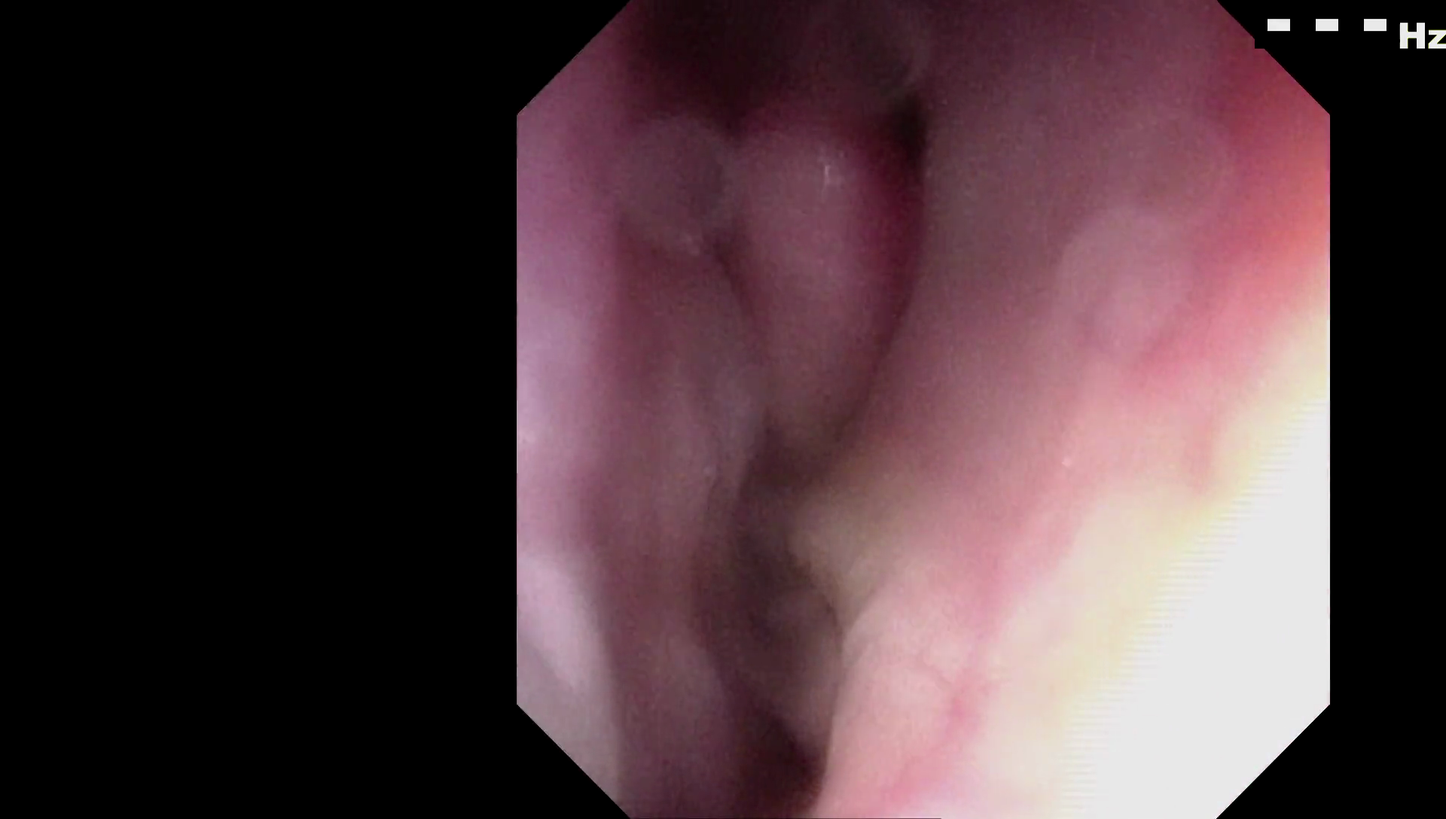close_wall: (925, 375, 1275, 757)
next: (673, 595, 828, 817), (608, 1, 824, 130), (846, 78, 944, 215)
